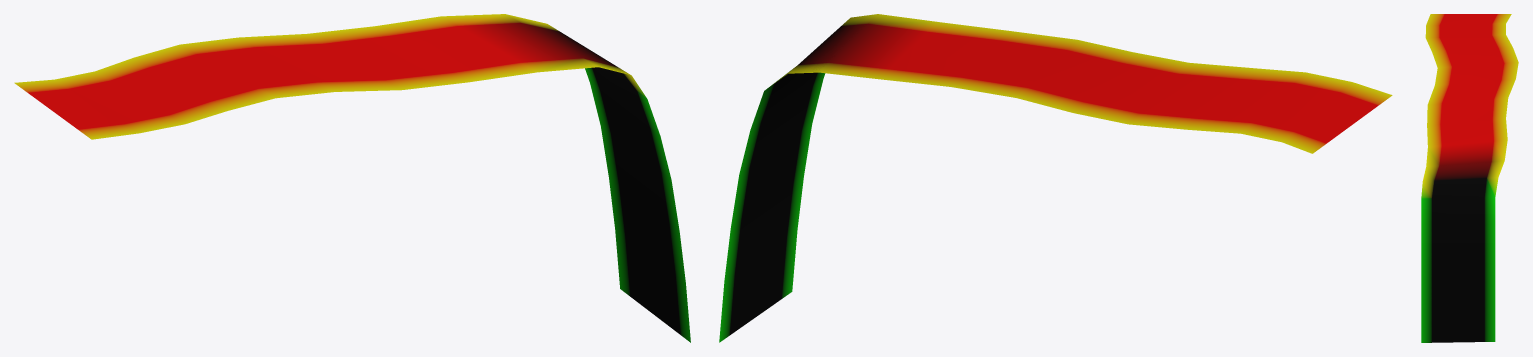
Rendered from model_waterfallTurtle.fbx.
The picture shows the model from 3 angles, left to right: view 1: azimuth 30°, elevation 25°; view 2: azimuth 150°, elevation 25°; view 3: azimuth 270°, elevation 25°; orthographic projection. The views are drawn at different scales.
Visible parts, largest first — view 1: mesh_waterfallTurtle; view 2: mesh_waterfallTurtle; view 3: mesh_waterfallTurtle.
Boxes of the visible parts, x1,y1,x2,y2 form: mesh_waterfallTurtle: [14, 14, 690, 342]; mesh_waterfallTurtle: [719, 14, 1392, 342]; mesh_waterfallTurtle: [1421, 14, 1518, 342].
Bounding box in the file's own units: 796 × 439 × 218.
